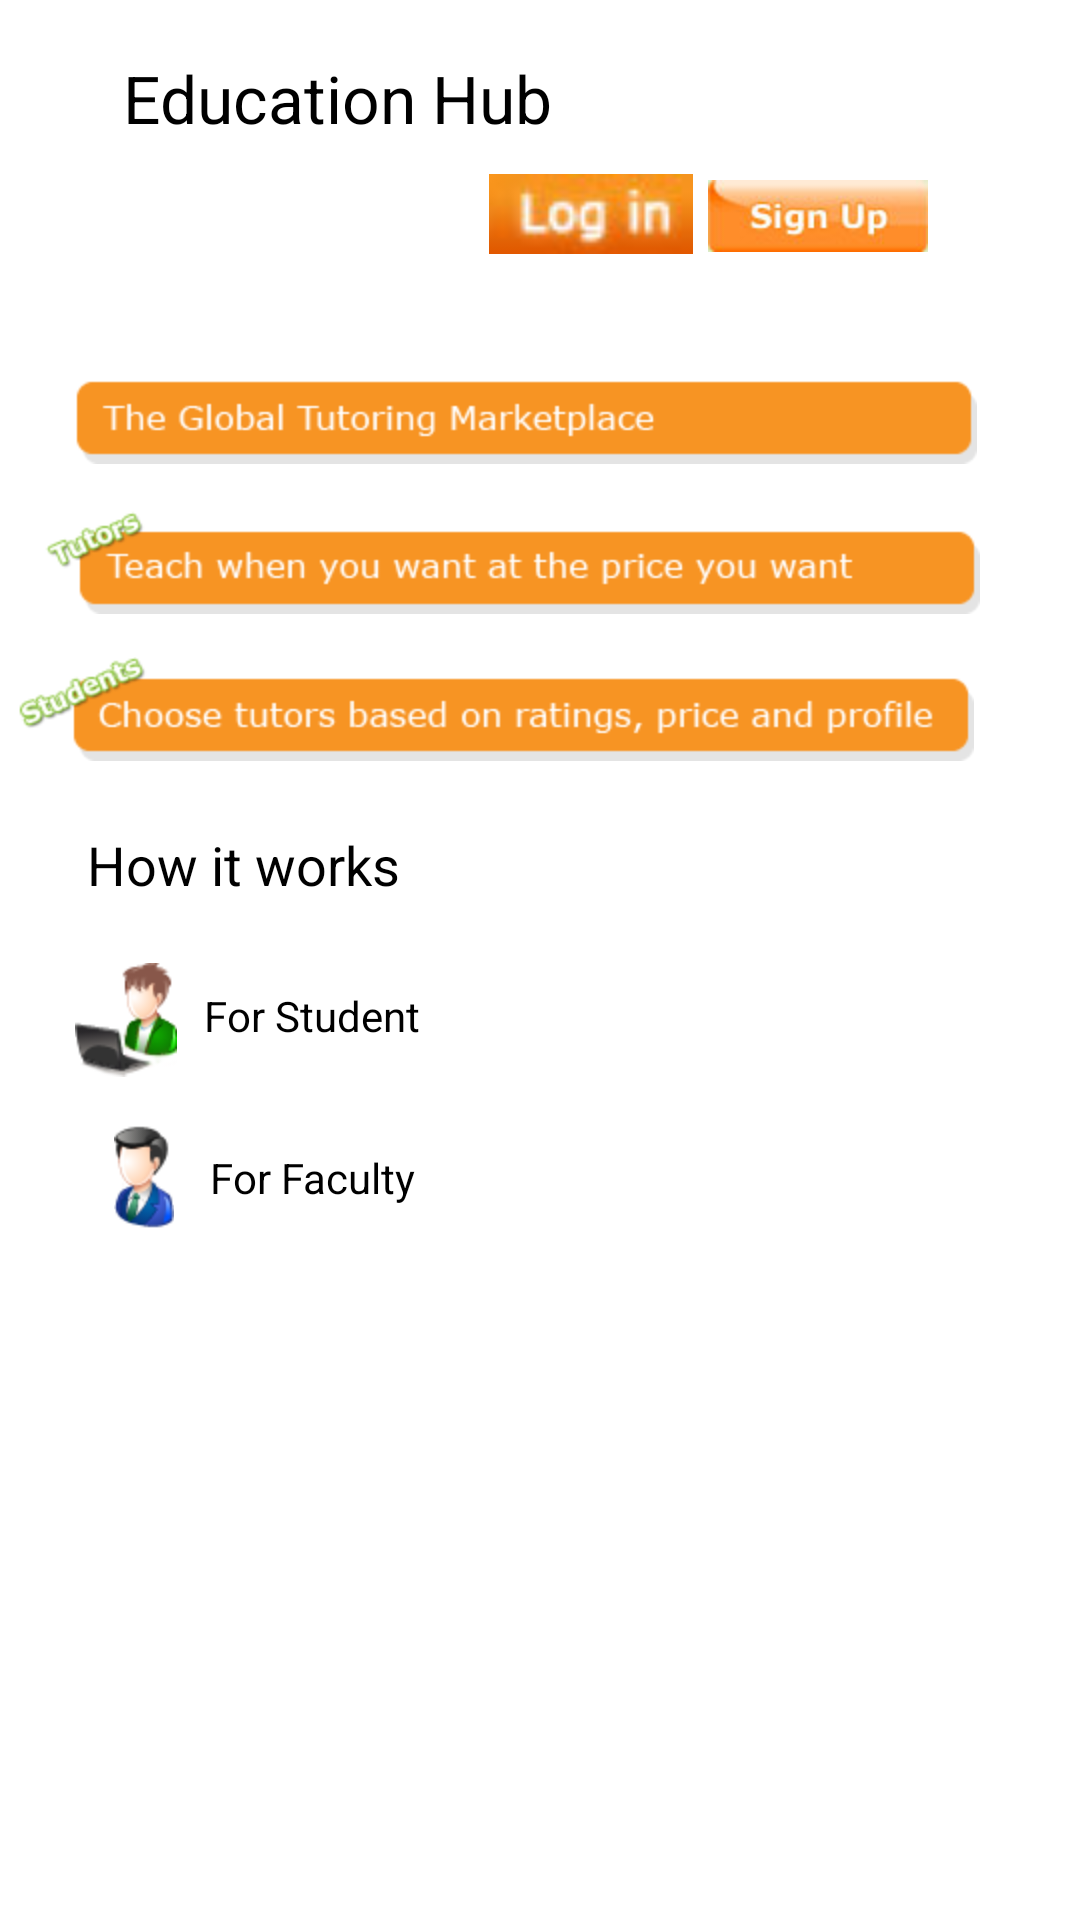

Icon click points for this 1080px×1920px phone screenshot, format (x,y):
studenticon: (126,1020)
tutoricon: (144,1177)
